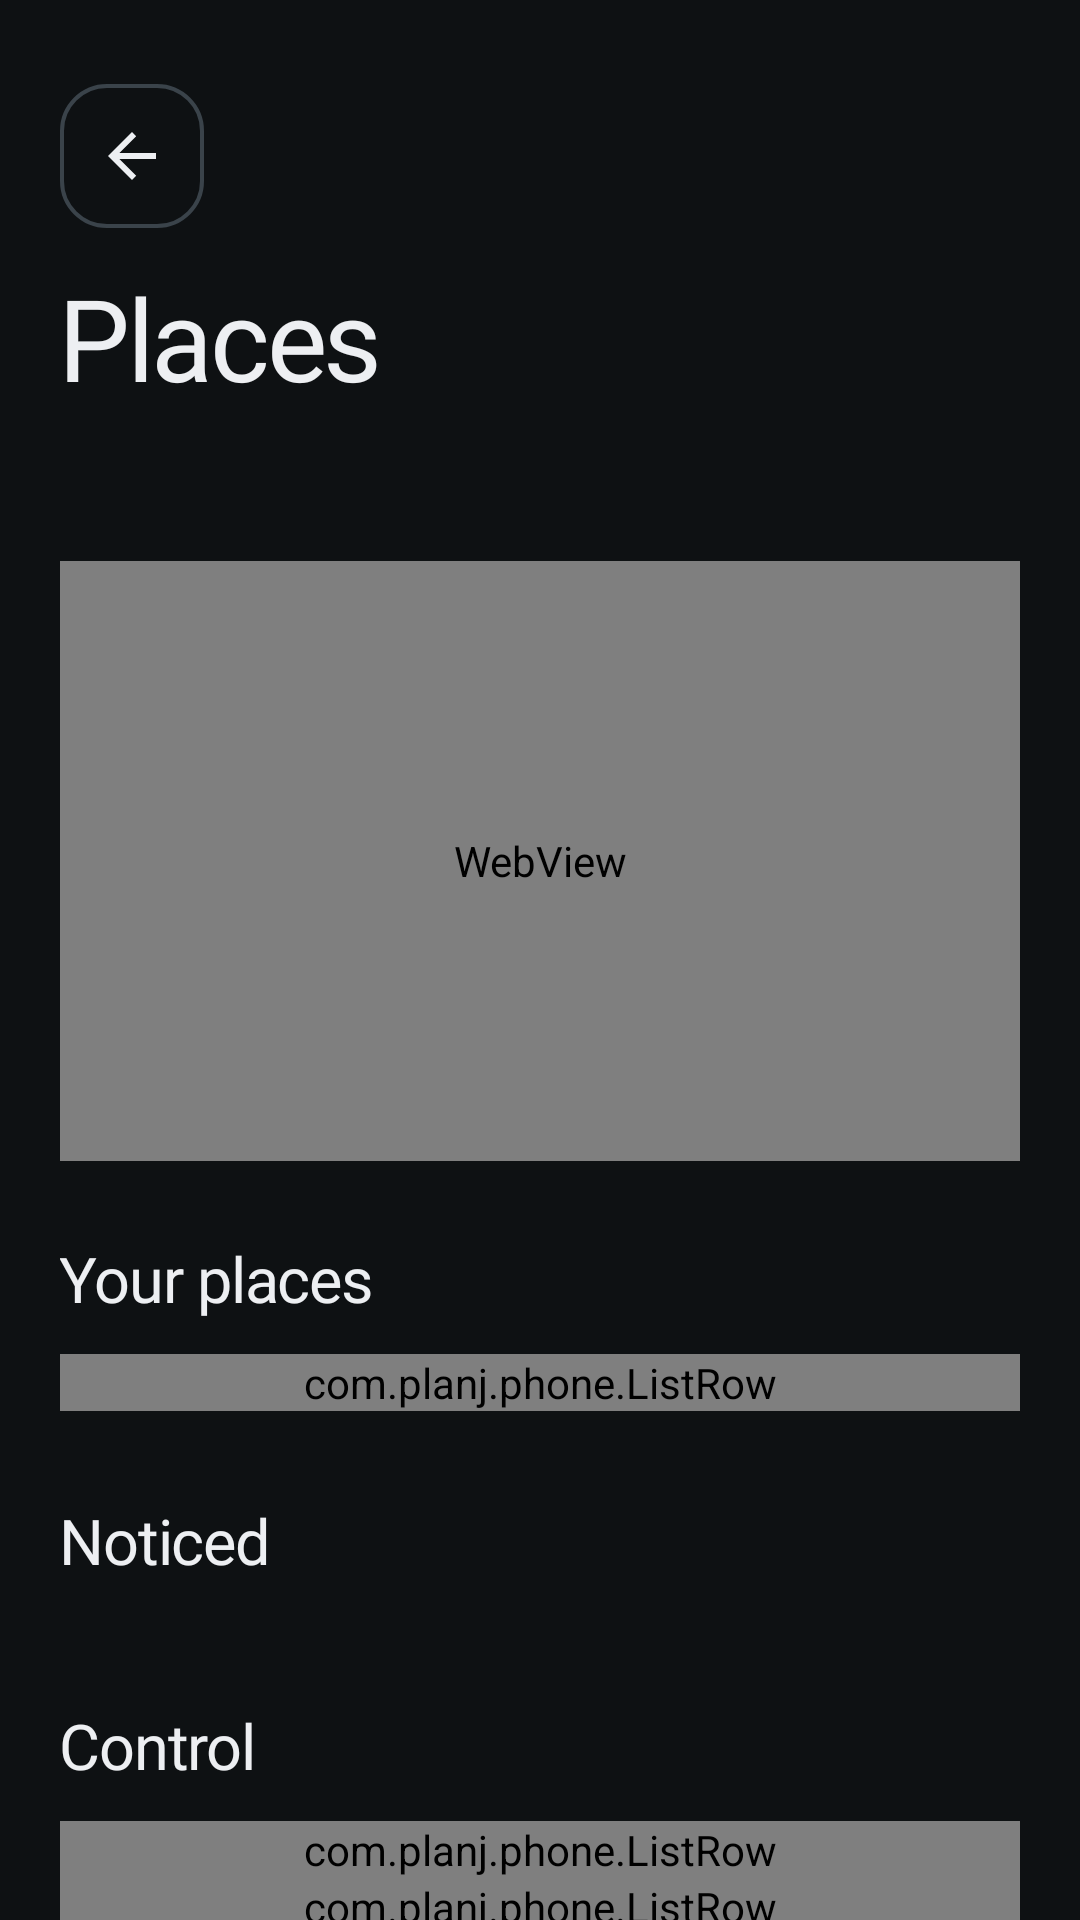

Point at icon controls on the screen. Image size 1080 x 1920, points as (x=x, y=y).
Back: (x=132, y=156)
